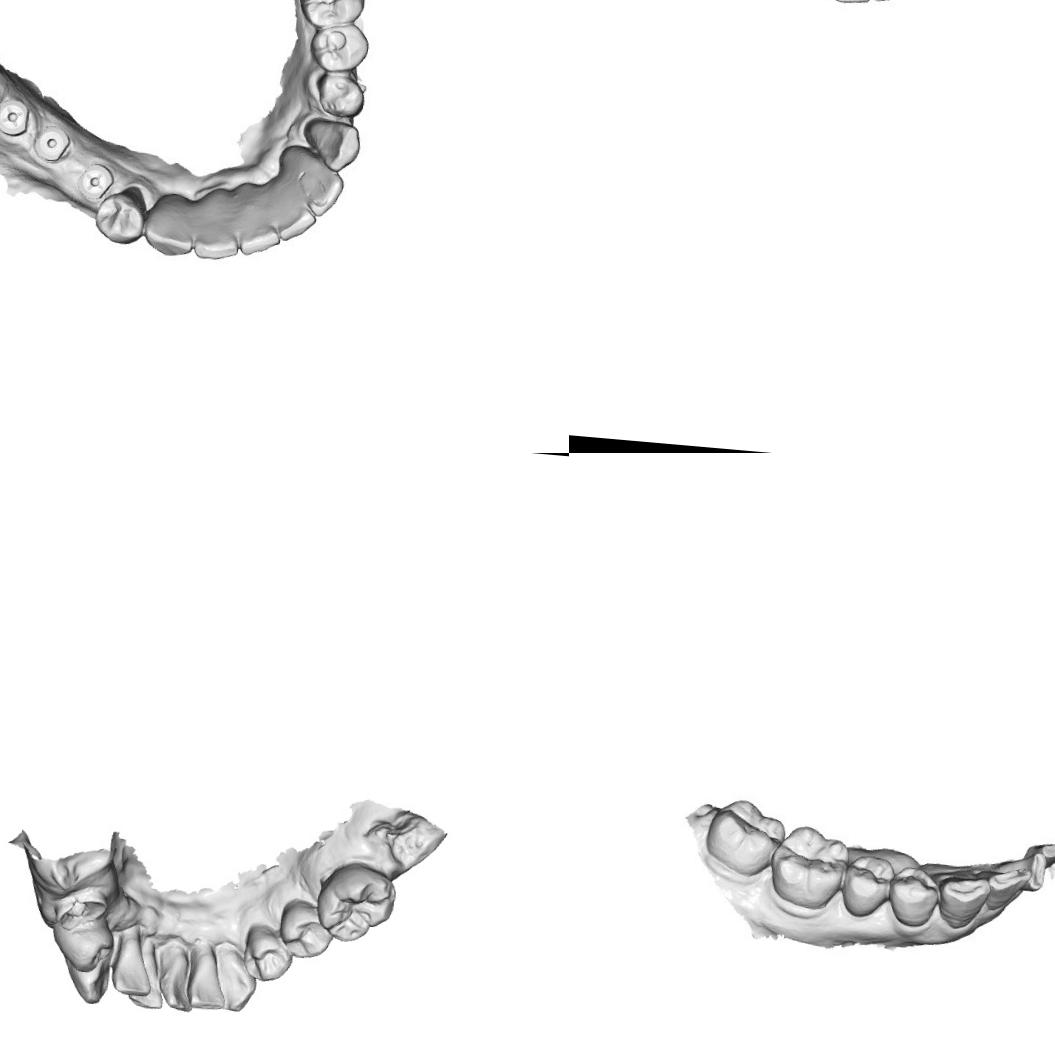canine: (300, 114, 362, 172), (937, 866, 988, 933), (141, 201, 196, 260), (62, 961, 112, 1004), (219, 968, 258, 1013)
implant: (32, 120, 74, 166)
implant_plus: (0, 89, 35, 143), (70, 158, 114, 198)
incisor: (107, 922, 158, 997), (184, 934, 230, 1011), (155, 932, 199, 1012), (975, 860, 1031, 922), (292, 158, 345, 218), (236, 207, 284, 262), (195, 204, 238, 260), (272, 190, 317, 243), (126, 970, 165, 1011), (824, 0, 874, 11)
molar: (760, 817, 852, 916), (697, 789, 787, 880), (312, 857, 399, 946), (302, 0, 365, 26)
premolar: (47, 902, 117, 977), (837, 848, 898, 921), (882, 860, 943, 931), (276, 895, 336, 960), (240, 918, 296, 984), (91, 188, 150, 247), (315, 68, 370, 122), (317, 21, 368, 67)
